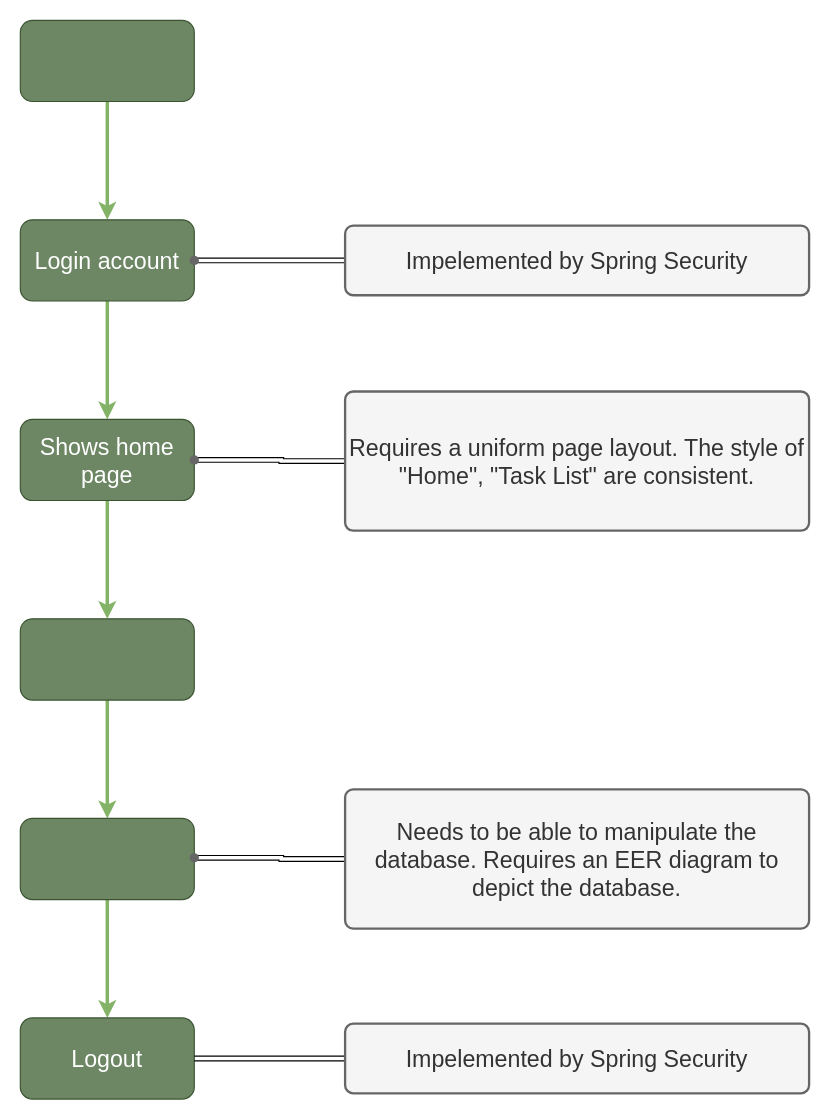
Image size: 831x1119. Some labels were removed from this diagram. Each missing label, with the box of its shape:
Go to "Task List": (19, 618, 194, 700)
Manipulate "Task List": (19, 817, 194, 900)
Visit the website: (19, 19, 194, 102)
